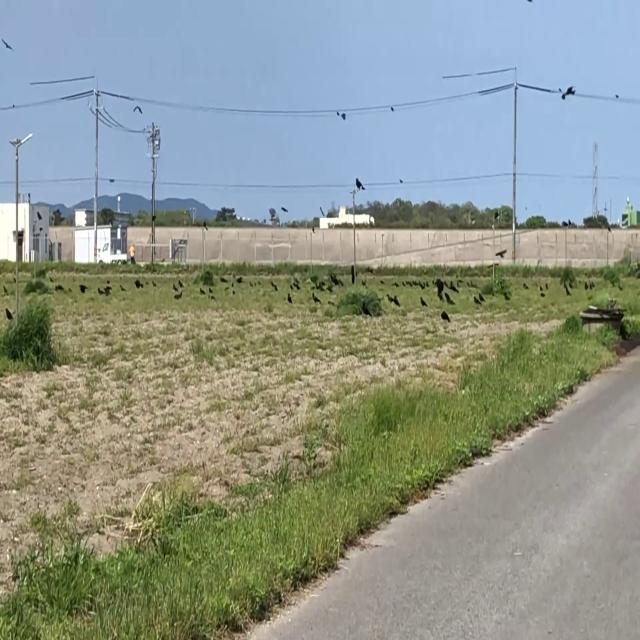bird: (562, 79, 575, 105), (1, 29, 12, 57), (355, 174, 364, 196), (135, 100, 141, 118), (340, 107, 346, 123), (350, 266, 355, 284), (287, 290, 292, 306), (394, 292, 398, 309), (636, 260, 640, 277), (453, 282, 457, 298), (476, 293, 480, 307), (399, 177, 403, 189), (585, 279, 588, 293), (590, 280, 593, 291)
